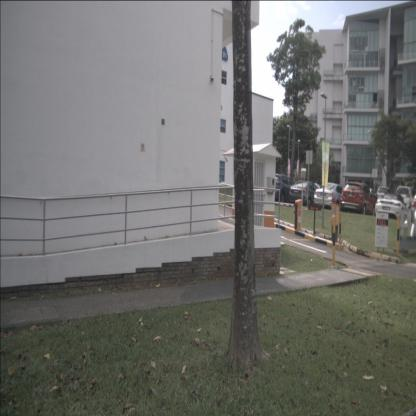vehicle-car: (340, 182, 376, 216), (374, 193, 409, 222), (314, 182, 348, 211), (288, 181, 322, 209), (266, 174, 296, 204), (396, 186, 413, 208), (375, 187, 392, 206)
